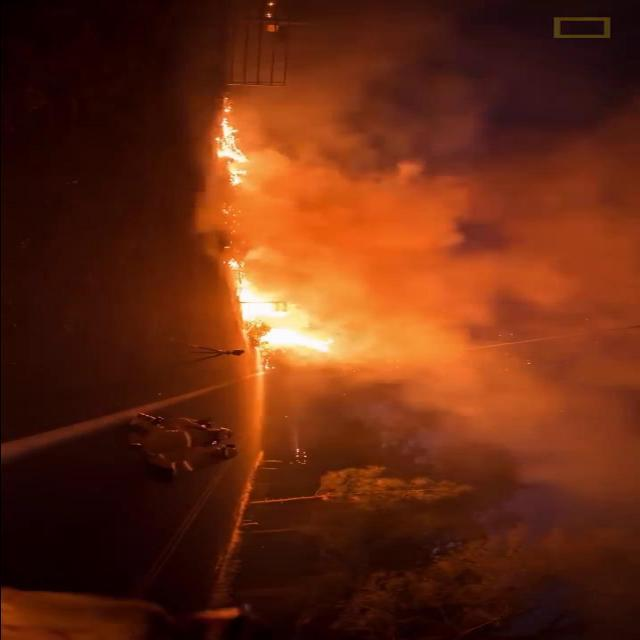Fire: (222, 258, 332, 354), (208, 122, 250, 186), (221, 96, 233, 113)
